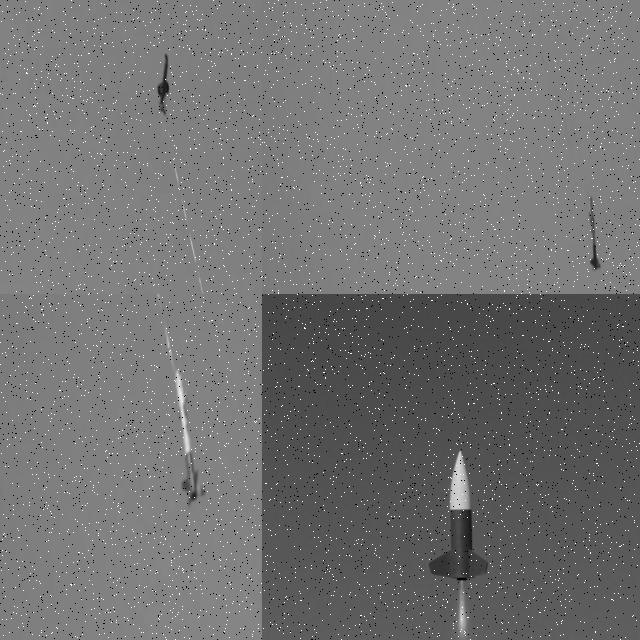Rocket: (427, 449, 490, 582), (175, 362, 208, 509), (588, 193, 601, 271)
